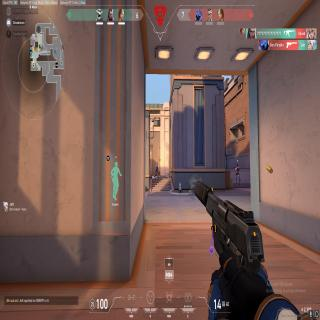ENEMY-BODY: (154, 161, 160, 178)
ENEMY-HEAD: (156, 162, 158, 164)
